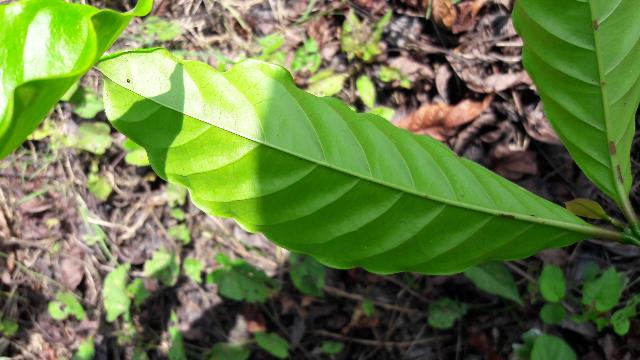healthy: (99, 43, 592, 277)
